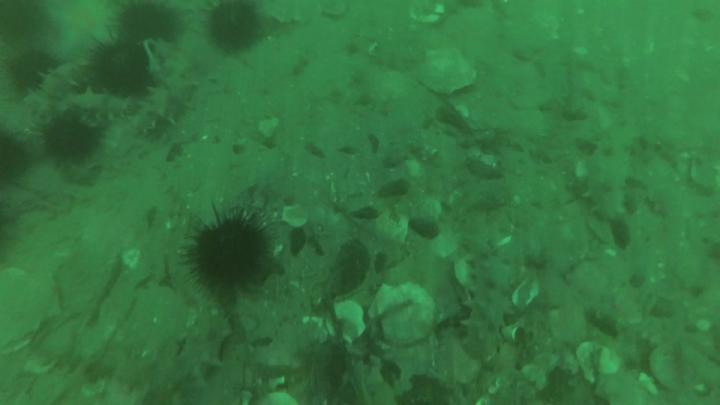echinus: (194, 219, 270, 286), (203, 1, 265, 53), (89, 47, 150, 97), (48, 116, 99, 166), (122, 2, 179, 42), (10, 49, 48, 90), (3, 131, 24, 190)
holothurian: (461, 238, 513, 366), (156, 309, 234, 391), (588, 128, 637, 222), (137, 83, 198, 137)
scallop: (372, 284, 437, 347), (419, 48, 475, 93)
starfish: (46, 2, 115, 56)
